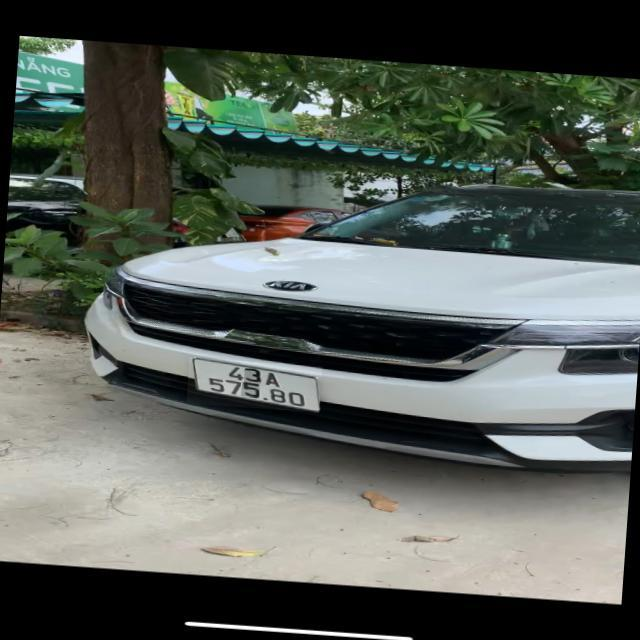car: (83, 176, 633, 473)
plate: (181, 355, 322, 416)
